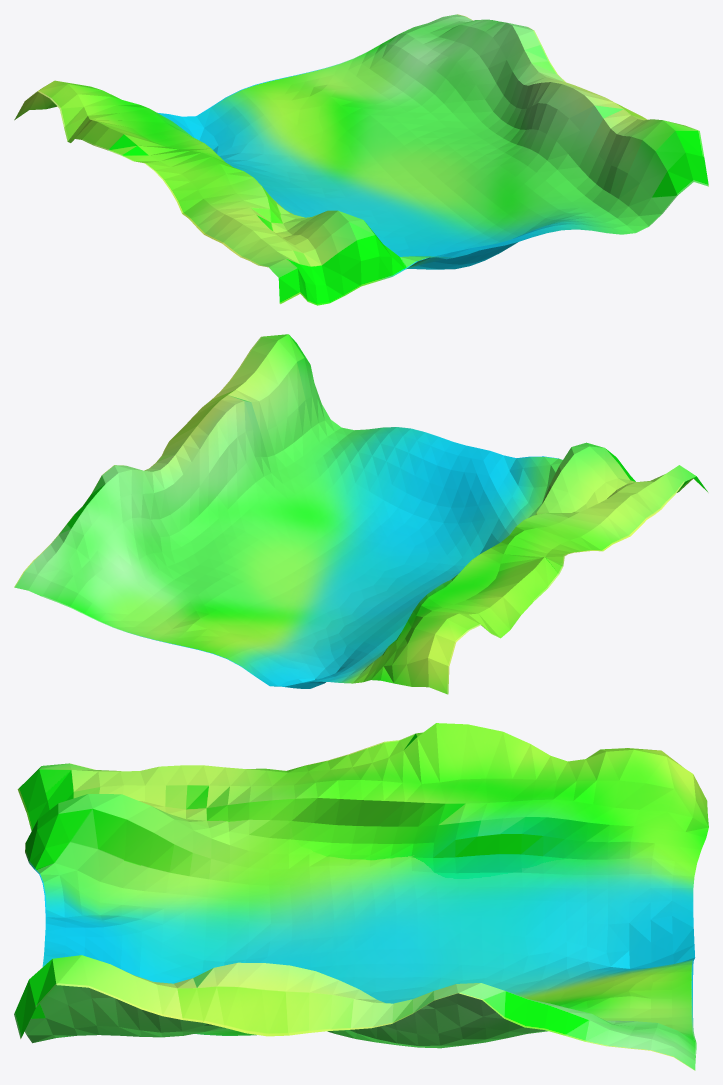
Rendered from Aterrain.gltf.
3 views of the same model, one above another, from view 1: azimuth 30°, elevation 25°; view 2: azimuth 150°, elevation 25°; view 3: azimuth 270°, elevation 25° (orthographic). The views are drawn at different scales.
Visible parts, largest first — view 1: base-terrain-col; view 2: base-terrain-col; view 3: base-terrain-col.
Part boxes in pixels (x1,y1,x2,y2): base-terrain-col: (14,14,708,305); base-terrain-col: (14,334,708,694); base-terrain-col: (14,723,708,1070).
Bounding box in the file's own units: 10.19 × 2.84 × 10.58.
1 material, 1 textured.
